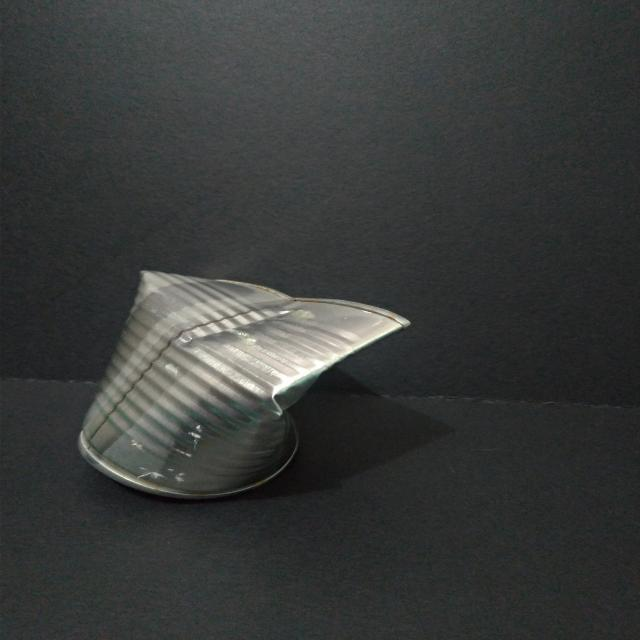metal-can: (77, 265, 413, 503)
